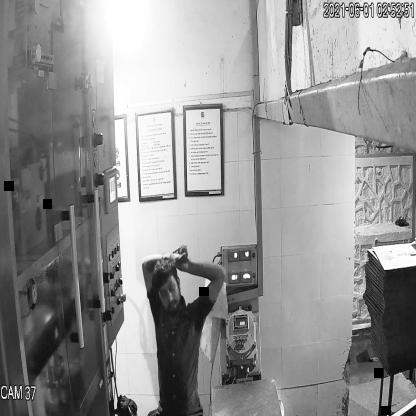no_goggles: (156, 276, 180, 302)
